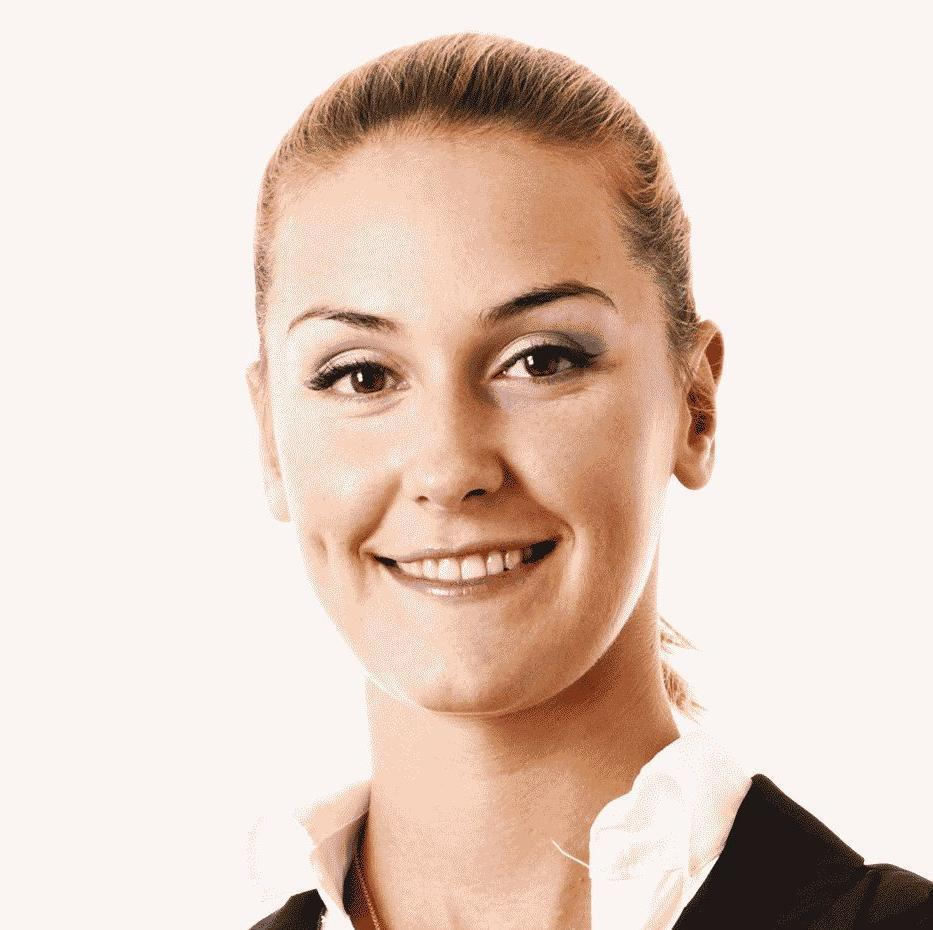Sober: (265, 152, 657, 704)
